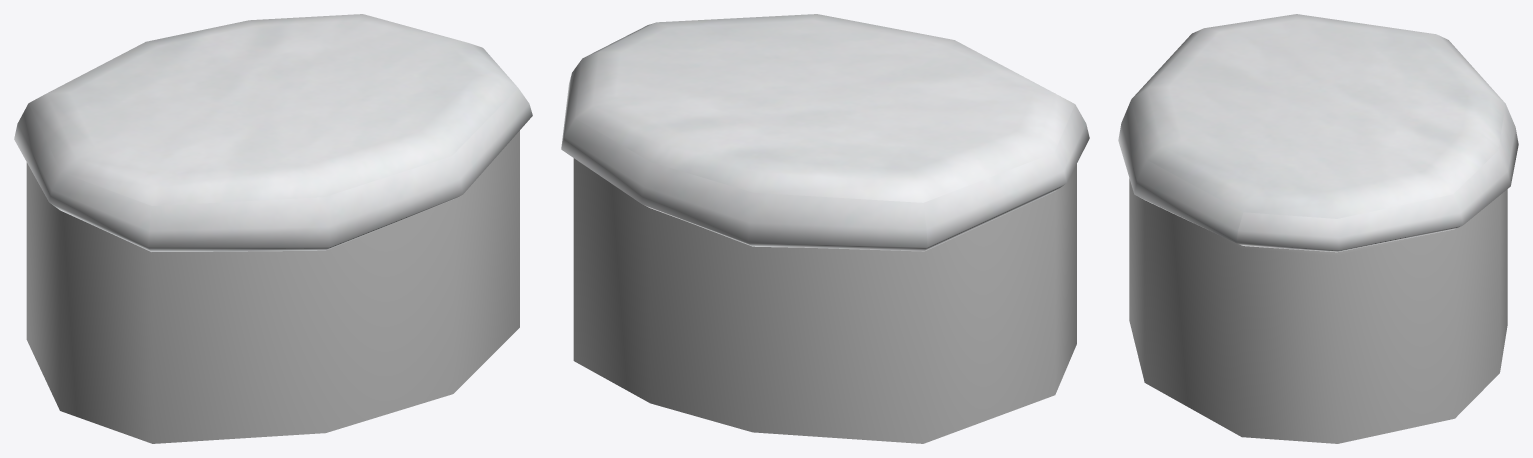
File: Cliff04.fbx
3 views of the same model, side by side, from view 1: azimuth 30°, elevation 25°; view 2: azimuth 150°, elevation 25°; view 3: azimuth 270°, elevation 25° (orthographic). The views are drawn at different scales.
Parts seen in each view (by area): view 1: Cliff04; view 2: Cliff04; view 3: Cliff04.
Boxes of the visible parts, <box> form: Cliff04: <box>14,14,532,443</box>; Cliff04: <box>561,14,1089,443</box>; Cliff04: <box>1118,14,1518,443</box>.
Bounding box in the file's own units: 262 × 134 × 206.
